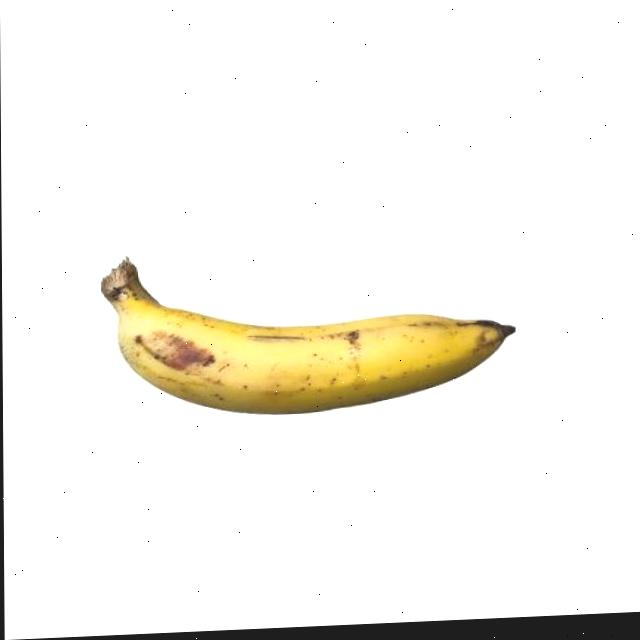banana: (113, 286, 522, 425)
